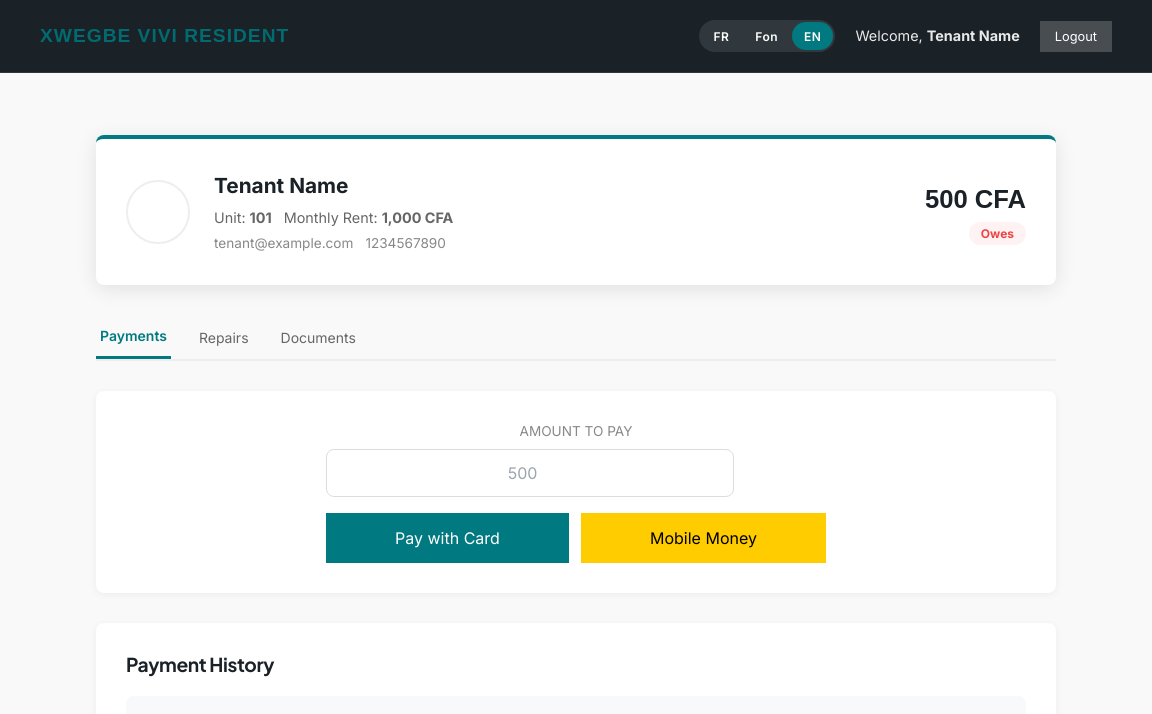
Test: TenantPortal › switches to Documents tab
What coordinates should you click on to do the following:
click the button "Documents"
I would click on:
 (318, 337)
Its box is x1=276 y1=315 x2=360 y2=359.
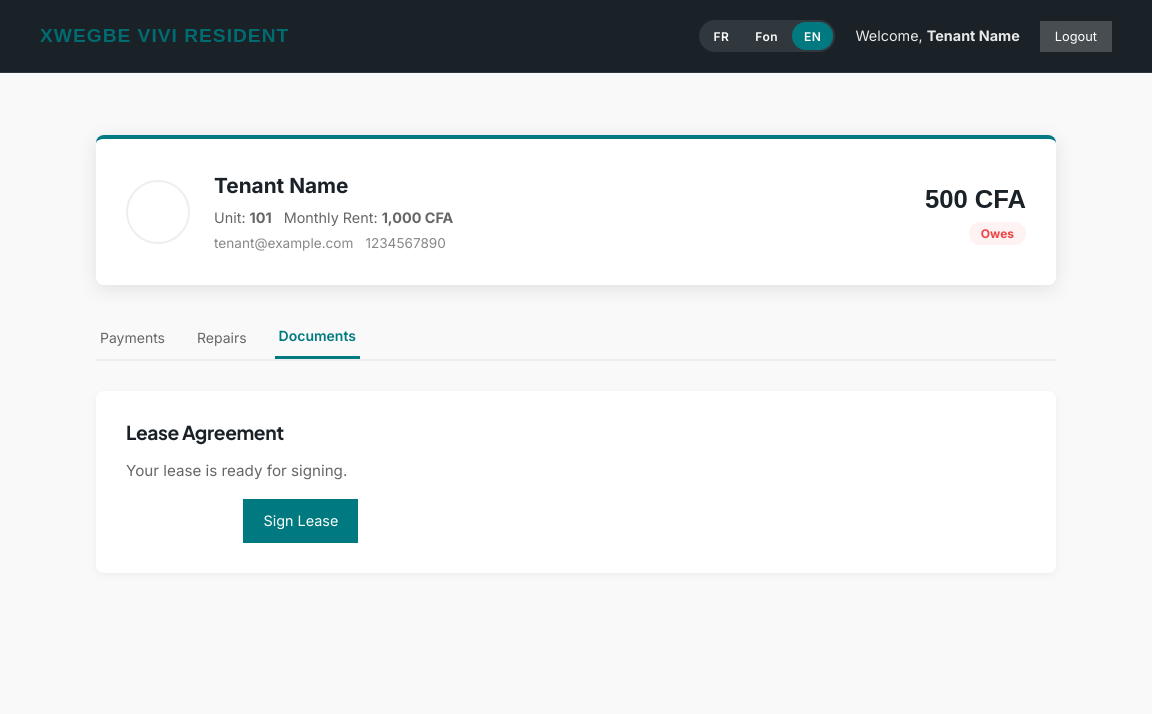
Check: the heading "Lease Agreement" is shown, box x1=126 y1=420 x2=284 y2=444
